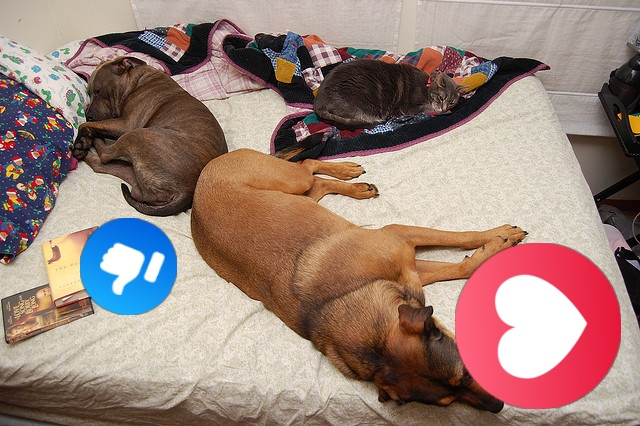like: (80, 218, 177, 315)
love: (455, 243, 621, 409)
